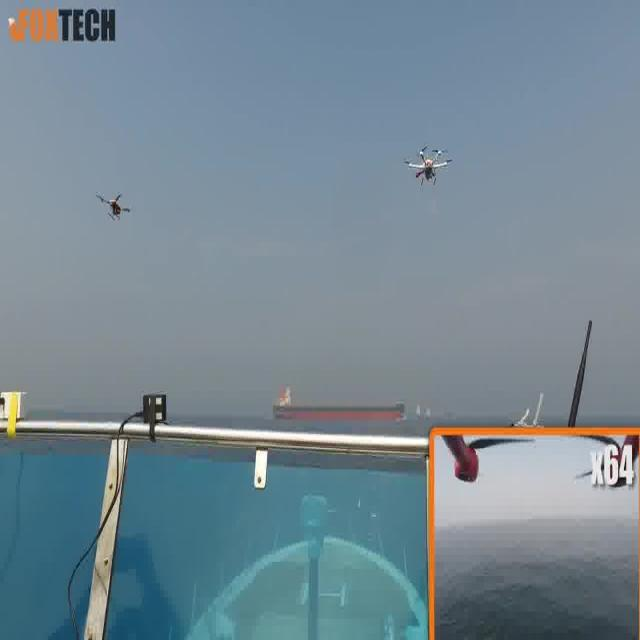drone: (403, 143, 453, 188), (95, 189, 132, 226)
